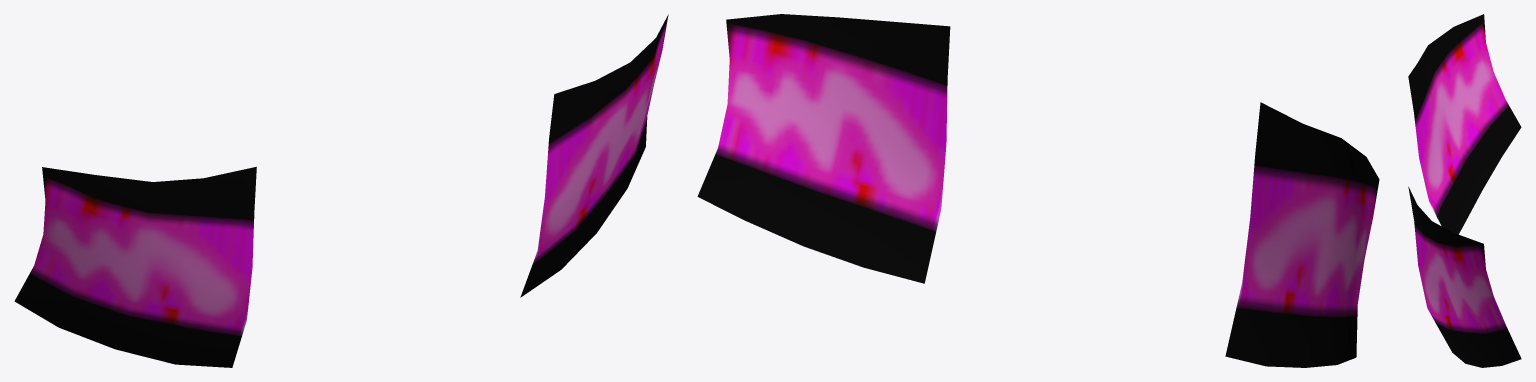
3 renders of one model, left to right at view 1: azimuth 30°, elevation 25°; view 2: azimuth 150°, elevation 25°; view 3: azimuth 270°, elevation 25°, orthographic. The views are drawn at different scales.
Visible parts, largest first — view 1: polySurface9; view 2: polySurface9; view 3: polySurface9.
Boxes of the visible parts, x1=… form: polySurface9: x1=14, y1=14, x2=668, y2=367; polySurface9: x1=697, y1=14, x2=1379, y2=367; polySurface9: x1=1408, y1=14, x2=1521, y2=367.
Size of the model in its own units: 0.587 by 0.2019 by 0.1214.
1 material, 1 textured.
